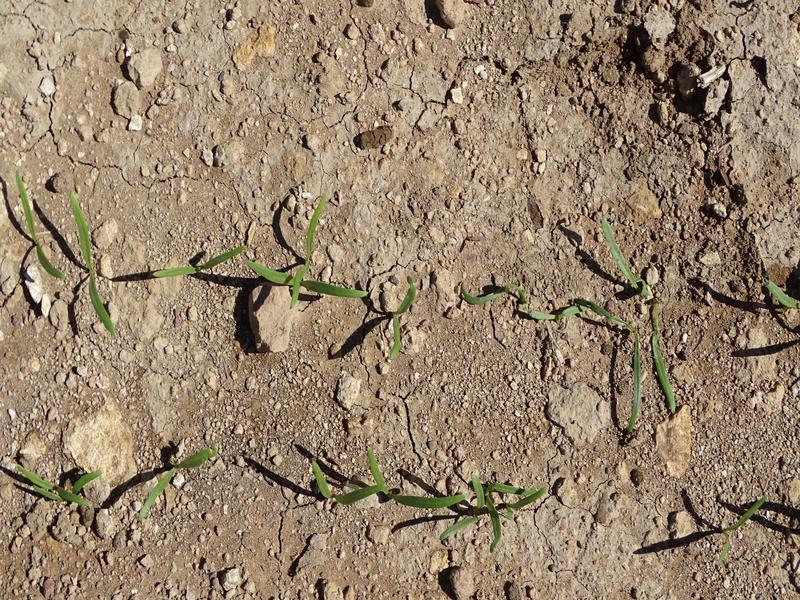Espinaca: (307, 453, 545, 549), (249, 196, 363, 297), (452, 278, 626, 327), (66, 189, 119, 340), (11, 169, 64, 278), (141, 442, 214, 518), (14, 461, 102, 511), (601, 215, 653, 294), (647, 310, 681, 417), (143, 244, 244, 279), (717, 492, 763, 563), (388, 280, 416, 362), (628, 333, 644, 434), (761, 275, 799, 315)
